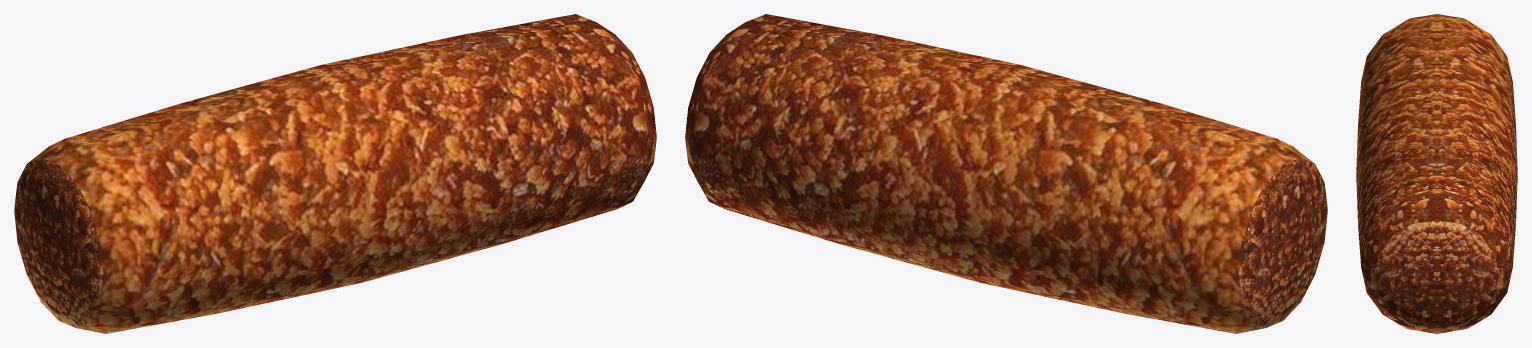
The model's file is kronktrue.fbx.
The picture shows the model from 3 angles, left to right: view 1: azimuth 30°, elevation 25°; view 2: azimuth 150°, elevation 25°; view 3: azimuth 270°, elevation 25°; orthographic projection. The views are drawn at different scales.
Visible parts, largest first — view 1: Cube; view 2: Cube; view 3: Cube.
Part boxes in pixels (<box>): Cube: <box>14,14,656,333</box>; Cube: <box>685,14,1327,333</box>; Cube: <box>1356,14,1517,333</box>.
Bounding box in the file's own units: 0.00339 × 0.00114 × 0.00109.
